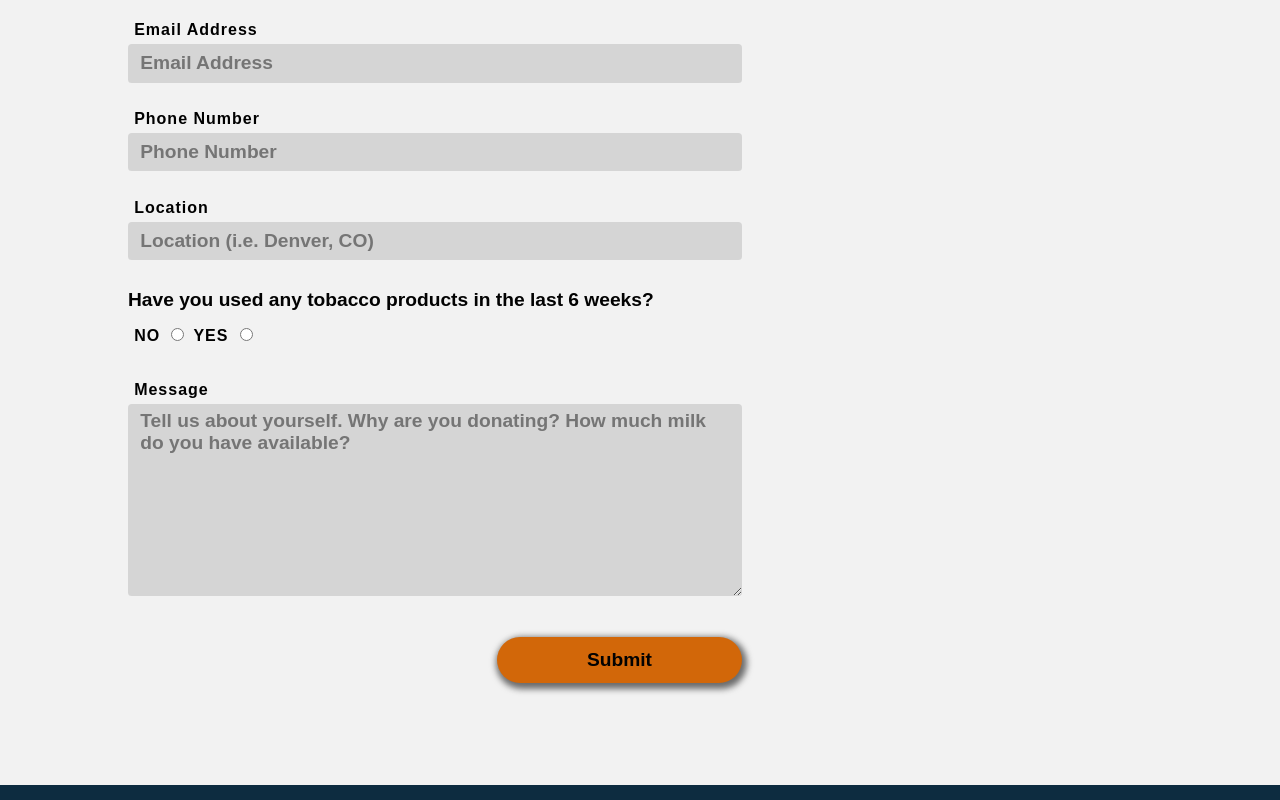
Test: Donate milk form user flow › Should not have visible name error message after correcting
(page scrolled)
Click the button with test id "donate-submit-button" at (620, 660), box [497,636,743,683]
(page scrolled)
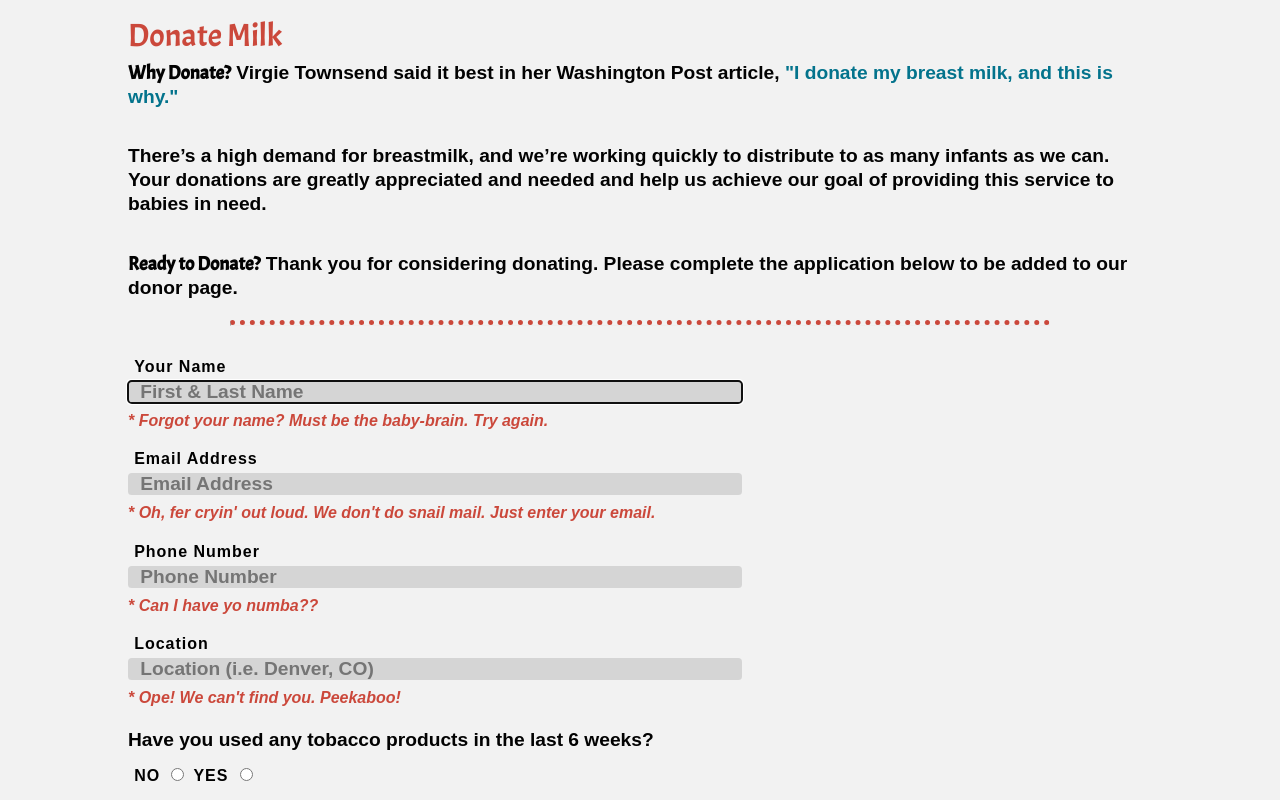
Expected: the text "* Forgot your name? Must be the baby-brain. Try again." is shown, [128,412,548,429]
Type "Jane Doe" into the field named "donorName" at (435, 392), box [128,381,742,403]
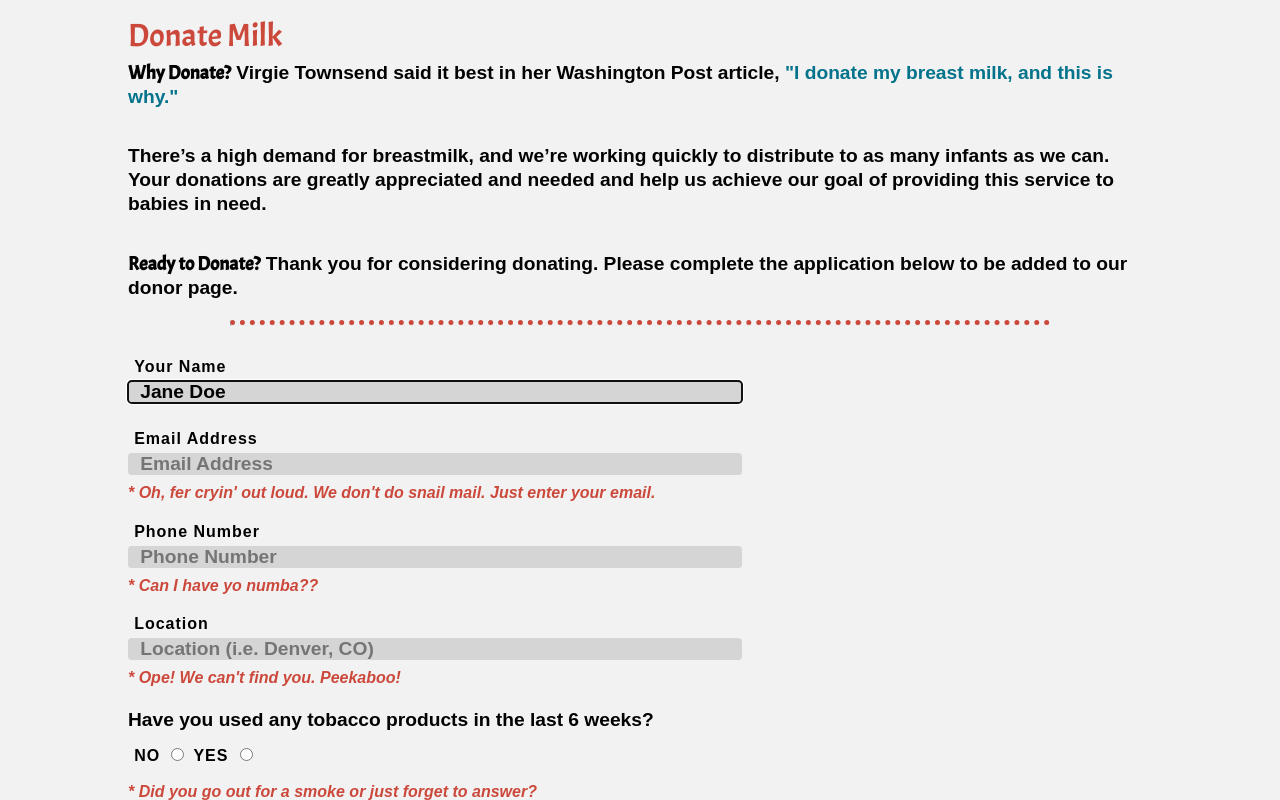
Expected: the text with test id "donor-name-error" is gone
